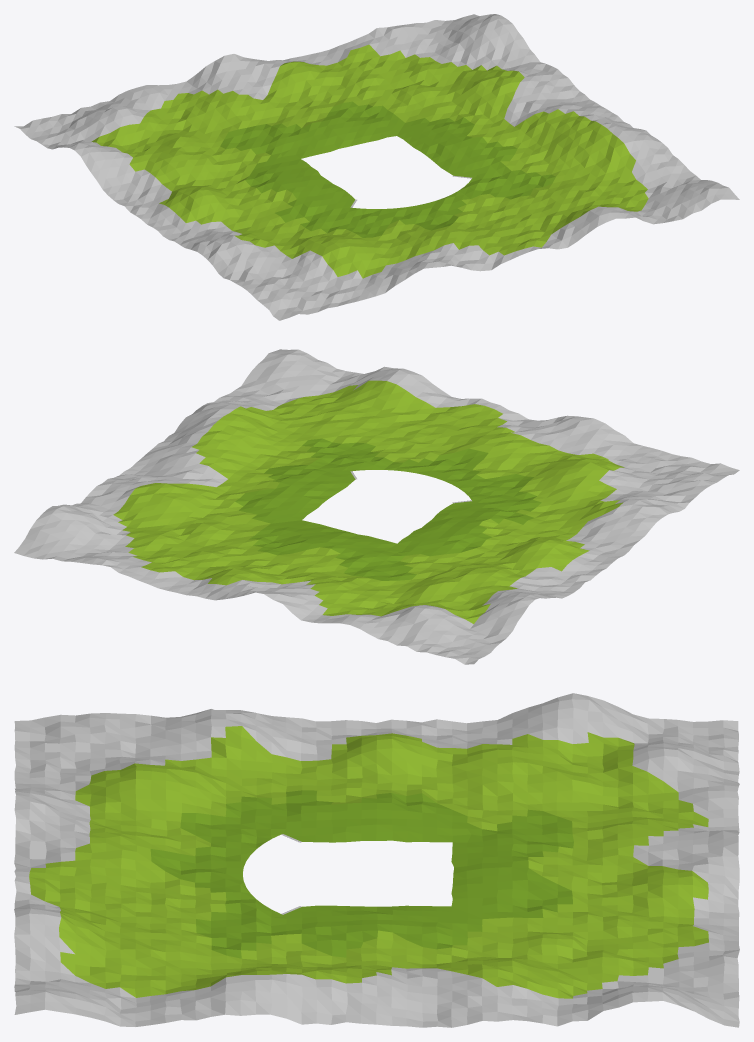
File: terrain_hills.glb
3 views of the same model, one above another, from view 1: azimuth 30°, elevation 25°; view 2: azimuth 150°, elevation 25°; view 3: azimuth 270°, elevation 25° (orthographic). The views are drawn at different scales.
Parts seen in each view (by area): view 1: Plane006; view 2: Plane006; view 3: Plane006.
Part boxes in pixels (<box>): Plane006: <box>14,14,739,320</box>; Plane006: <box>14,349,739,664</box>; Plane006: <box>14,693,739,1027</box>.
Bounding box in the file's own units: 1203 × 62.27 × 1204.
